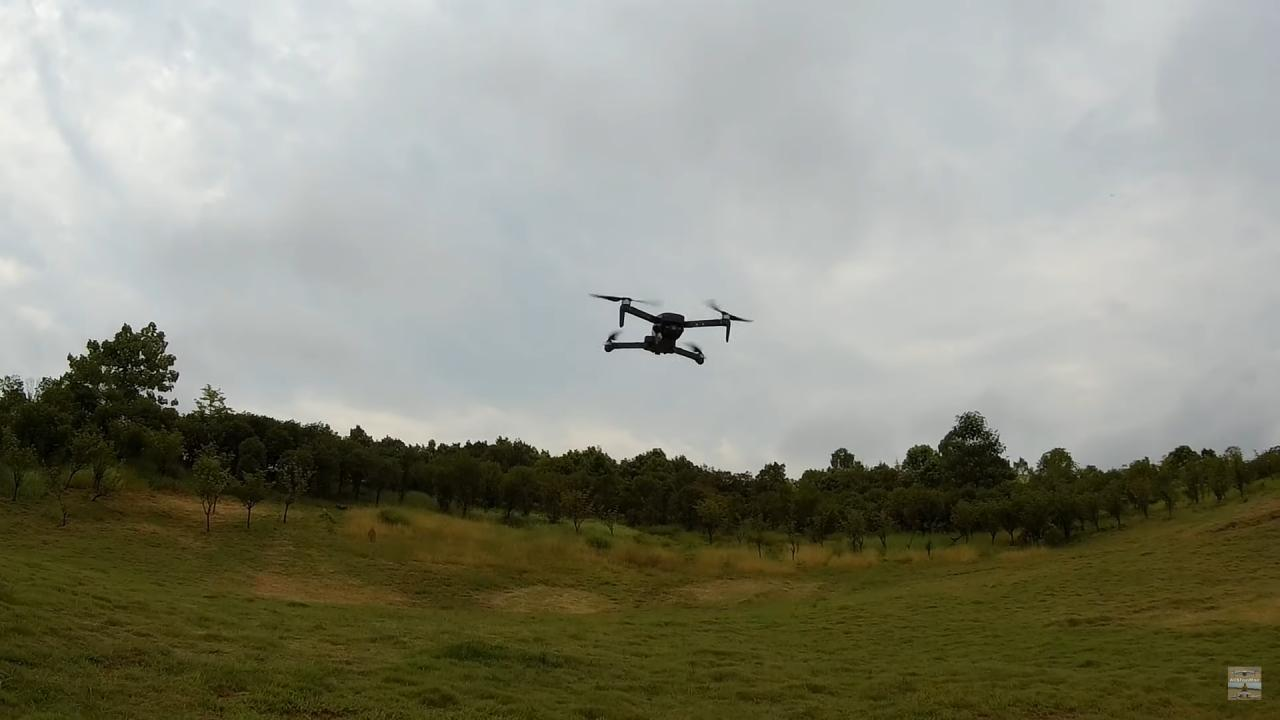Drone: (570, 282, 763, 374)
